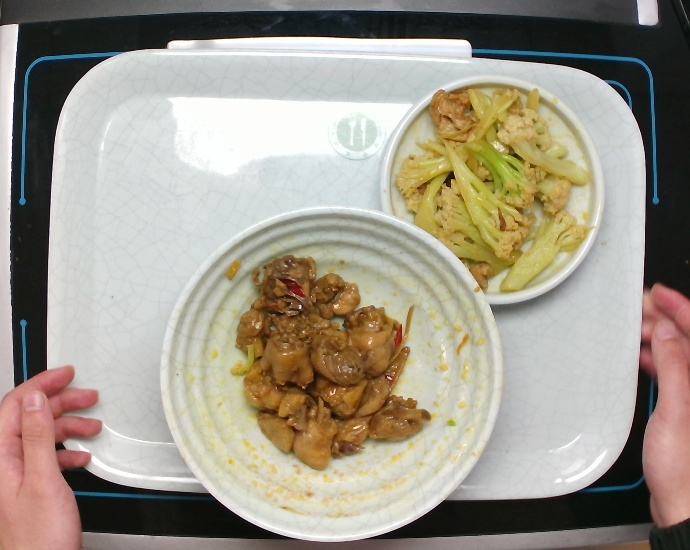JYsf-Da_Tang_Wan: (156, 203, 506, 545)
JYsf-Xiao_Yuan_Pan: (376, 71, 607, 307)
